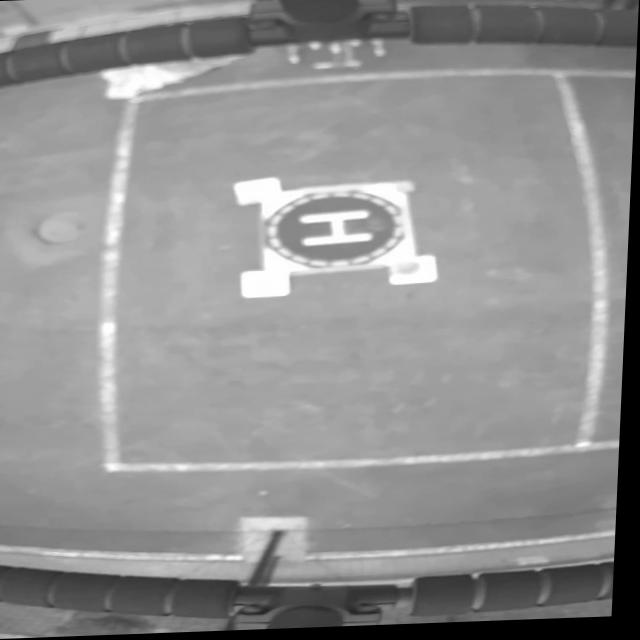Helipad: (301, 211, 377, 248)
